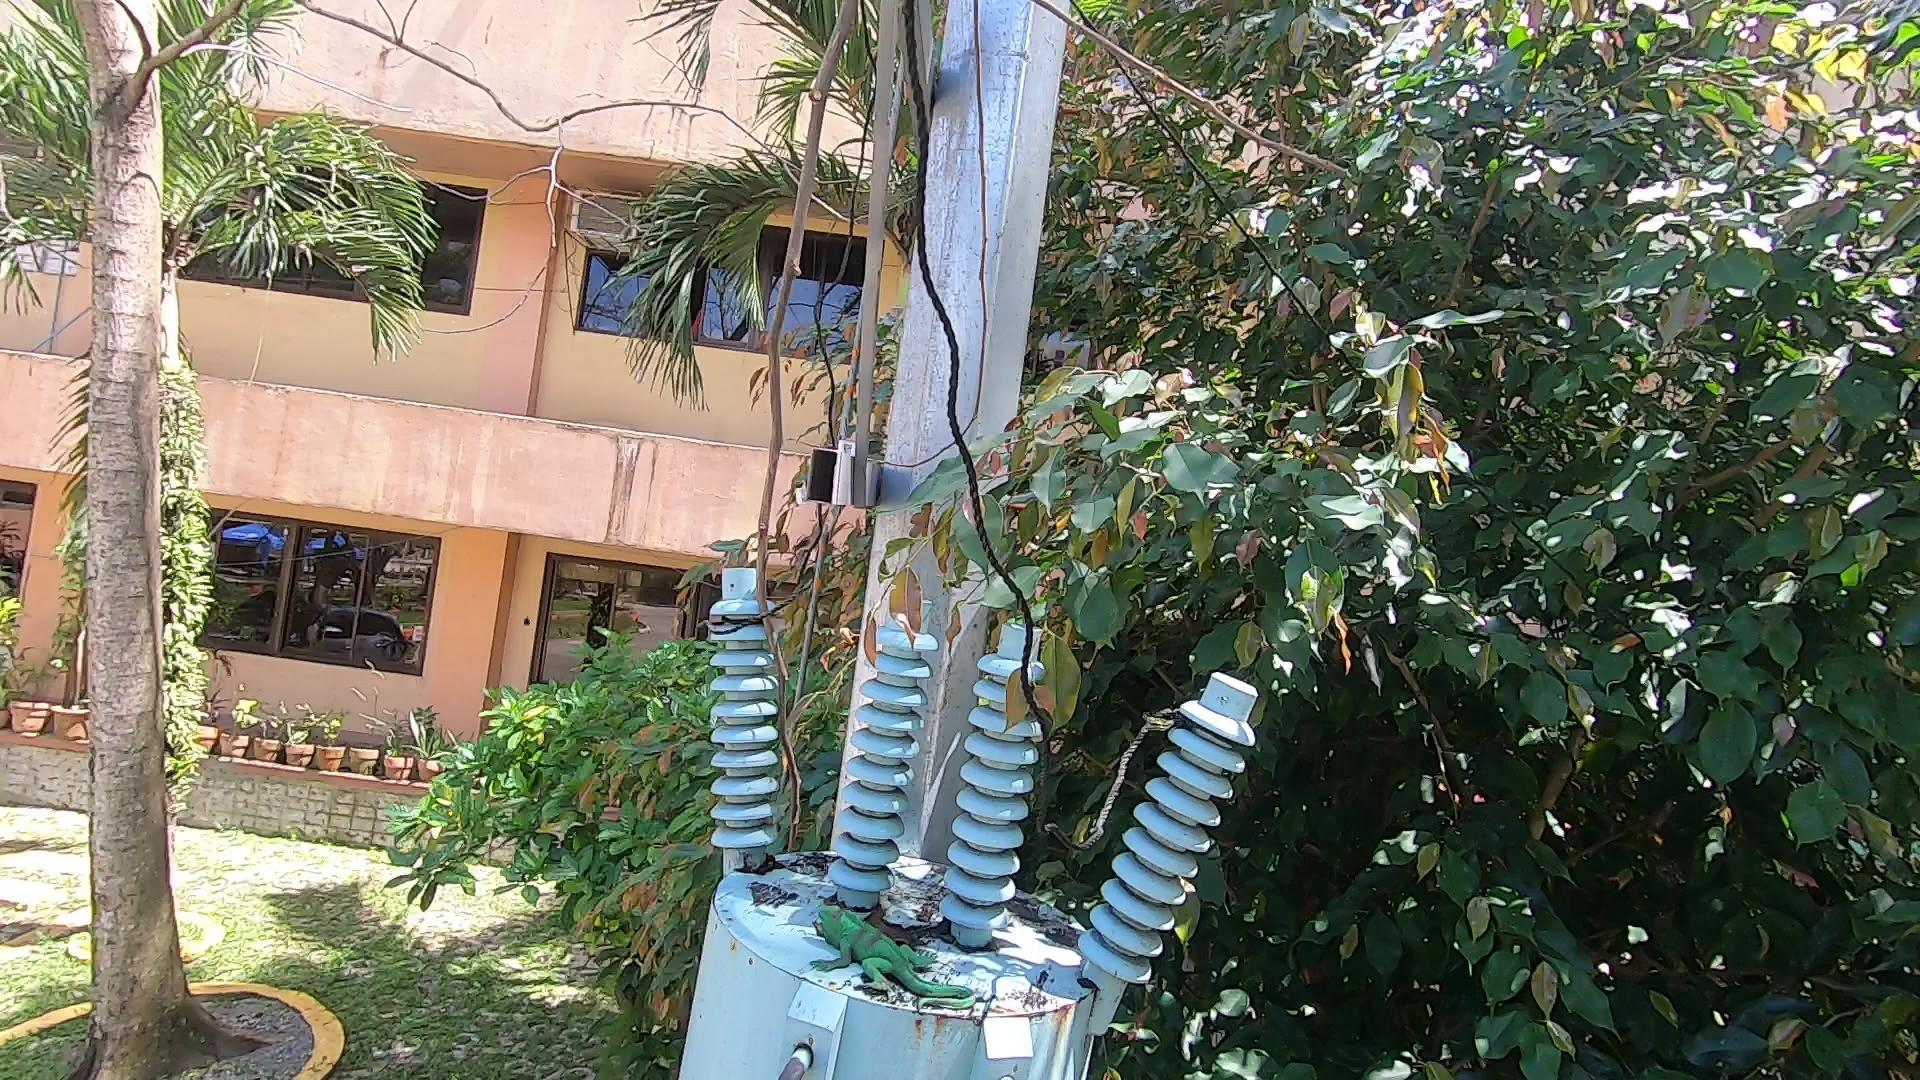branch with leaves: (844, 489, 1172, 732)
leaf: (1013, 891, 1077, 944), (865, 916, 963, 944), (736, 844, 793, 882)
tree branch: (736, 3, 1361, 851)
